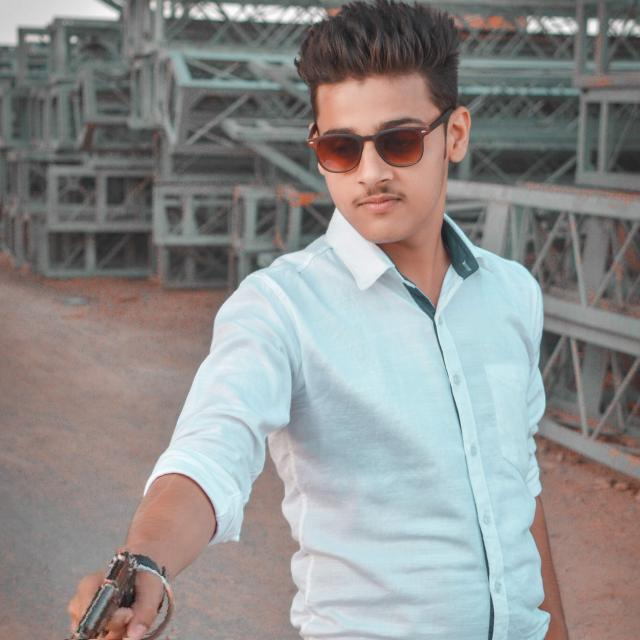handgun: (50, 544, 174, 640)
